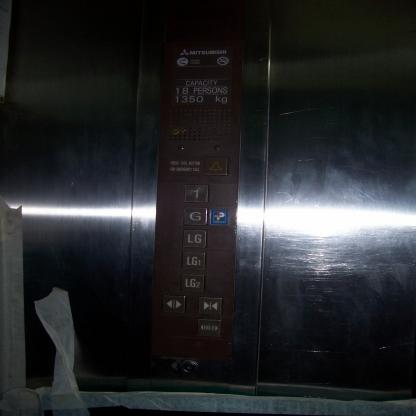1: (184, 184, 208, 203)
G: (182, 207, 208, 225)
LG: (181, 229, 207, 248)
LG1: (181, 250, 206, 271)
LG2: (180, 274, 205, 292)
alarm: (204, 156, 229, 176)
close: (198, 296, 222, 315)
keyhole: (180, 360, 199, 373)
open: (162, 294, 186, 313)
unknown: (197, 318, 221, 338)
